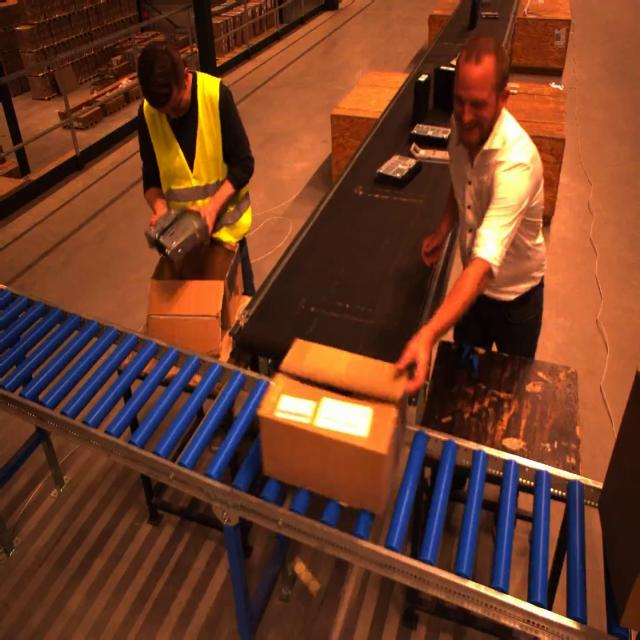box: (258, 363, 400, 514), (145, 240, 247, 361)
product: (400, 142, 455, 182), (374, 154, 420, 188), (432, 64, 456, 115), (409, 122, 451, 148), (411, 73, 430, 126), (408, 141, 451, 163), (480, 11, 499, 19)
